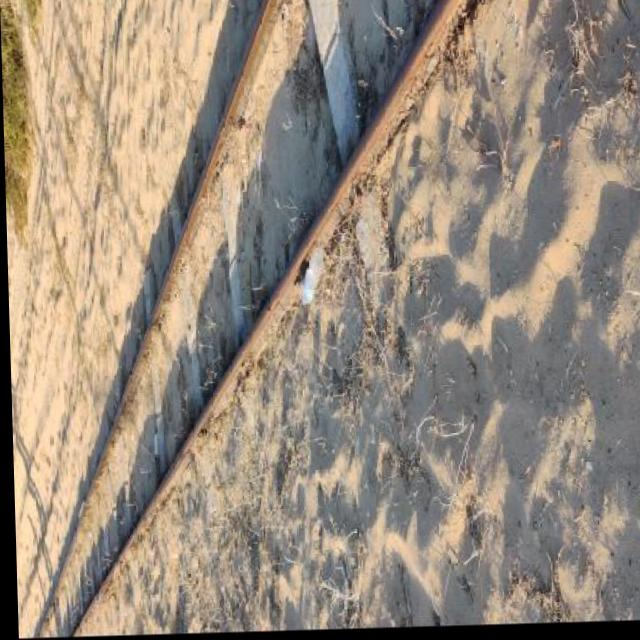plastic: (300, 249, 325, 307)
